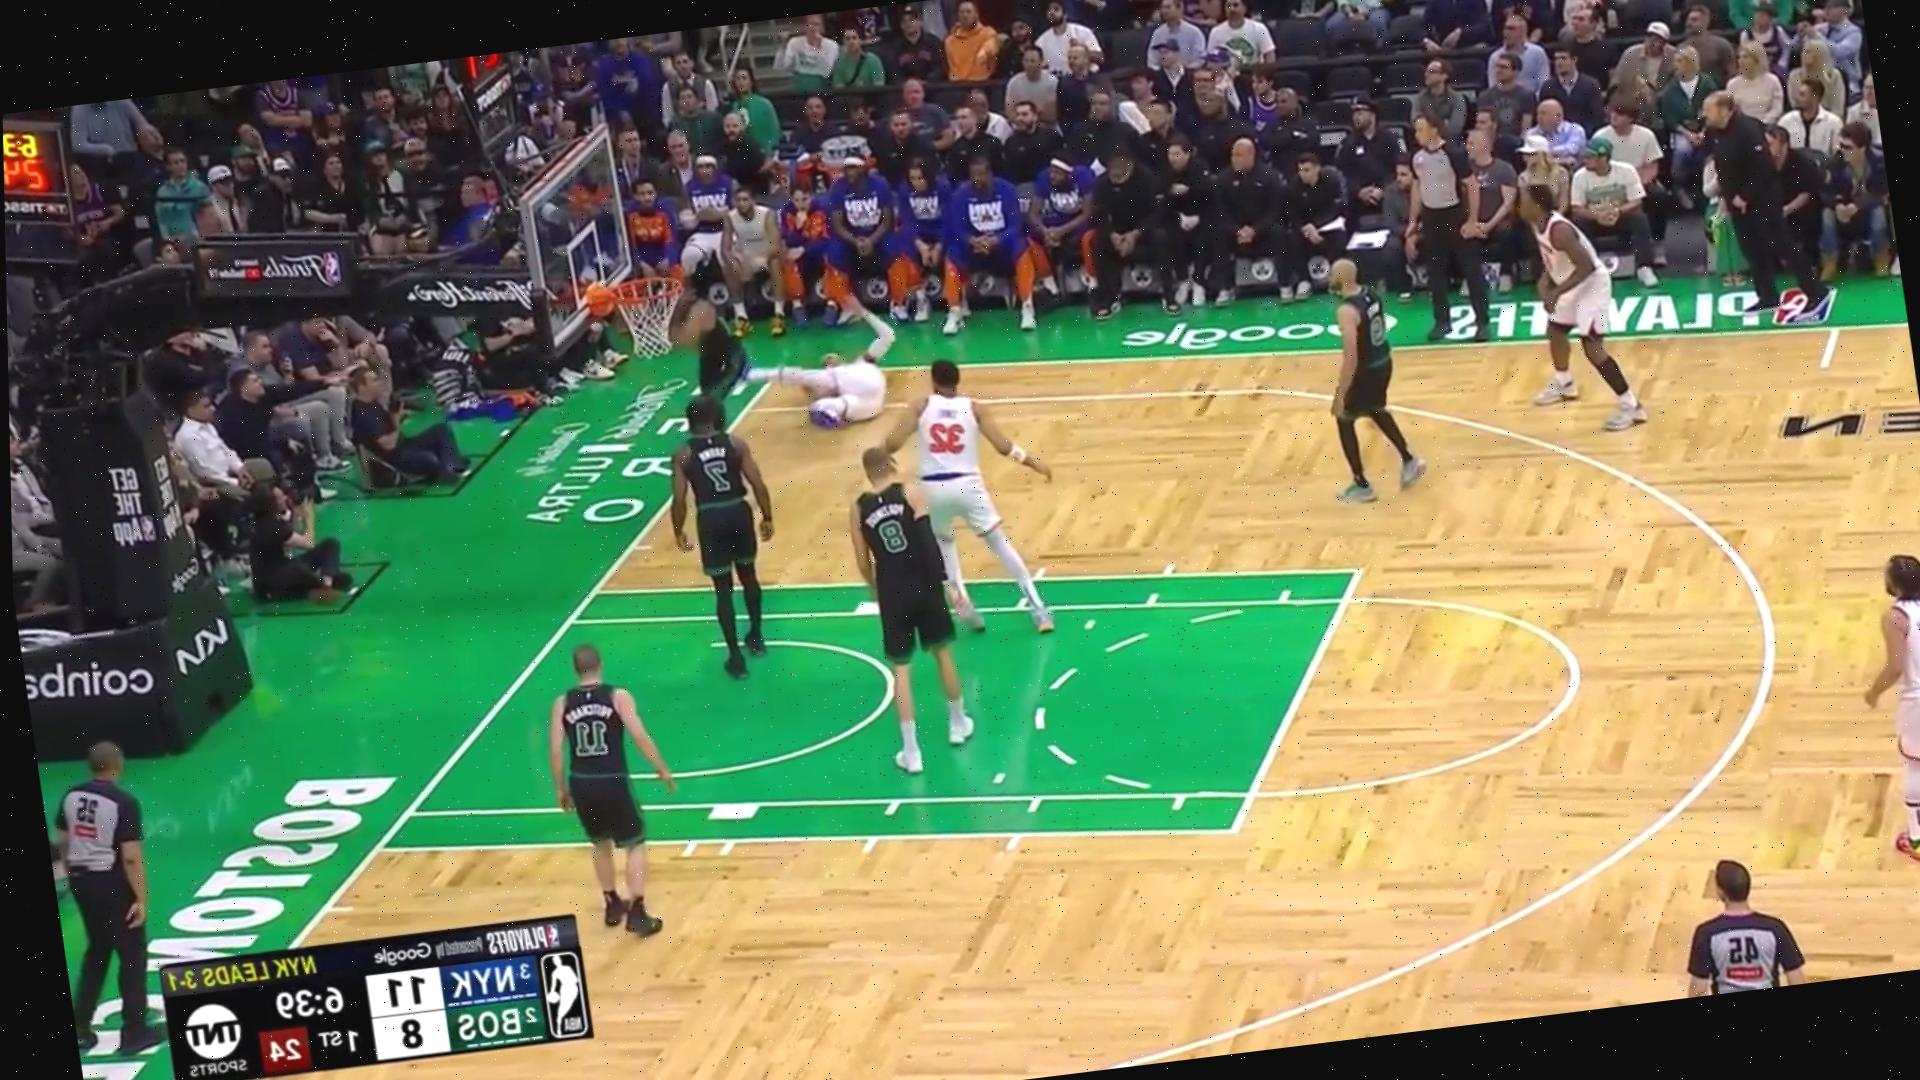foul: (612, 260, 918, 476)
